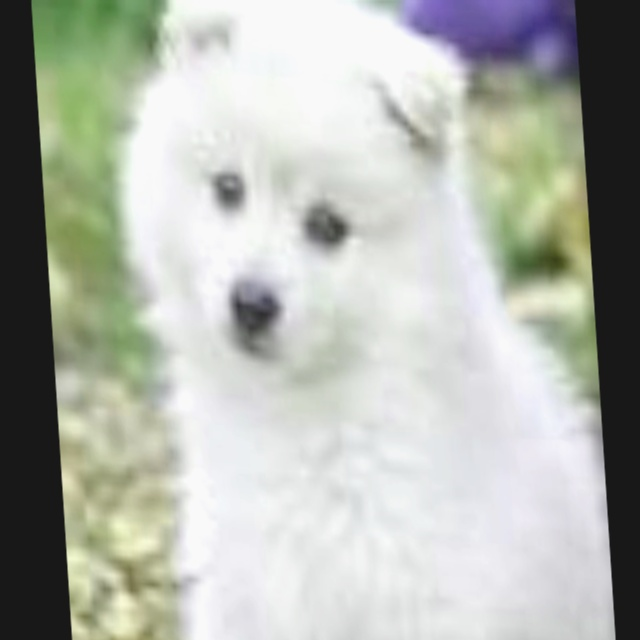dog: (97, 0, 534, 426)
